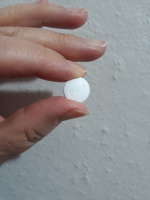Parol: (63, 76, 91, 104)
